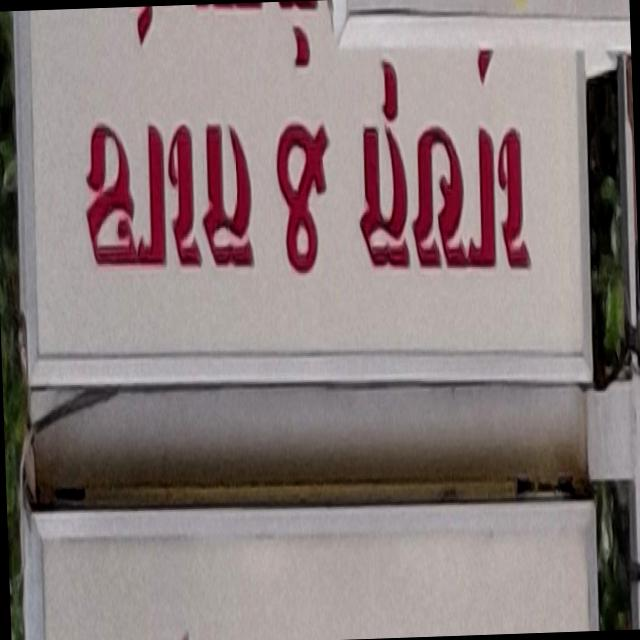Yolov11_80vkh: (70, 36, 269, 313)
